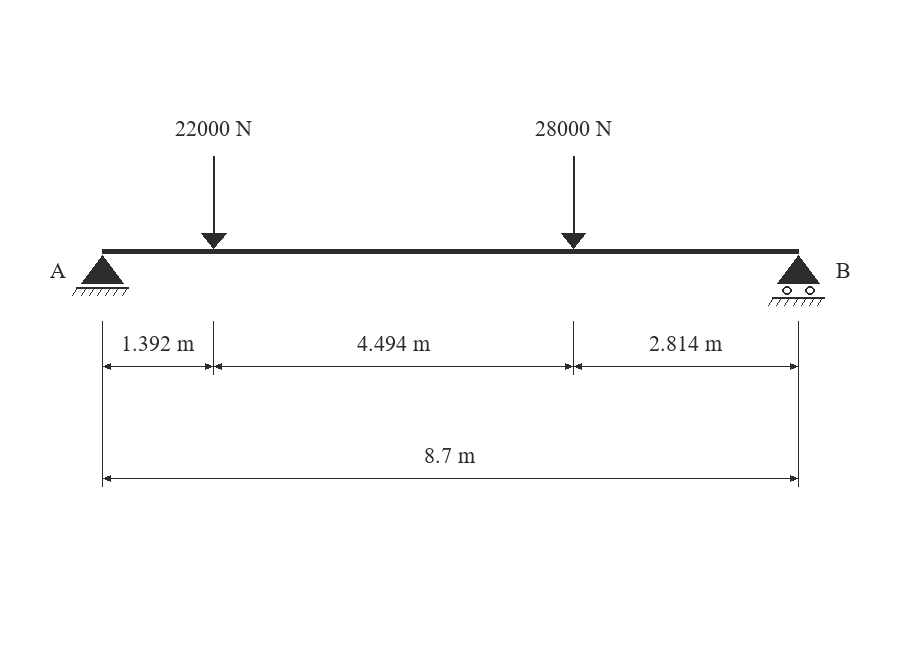pin_support: (72, 255, 129, 296)
point_load: (201, 156, 227, 249), (561, 156, 586, 249)
roller_support: (768, 255, 825, 306)
